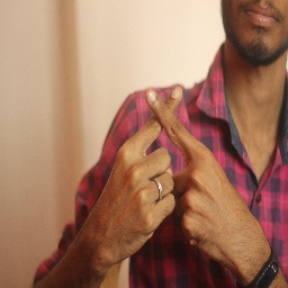X: (99, 75, 229, 179)
